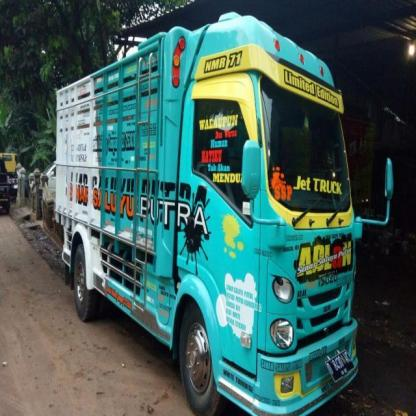truck: (55, 7, 393, 416)
